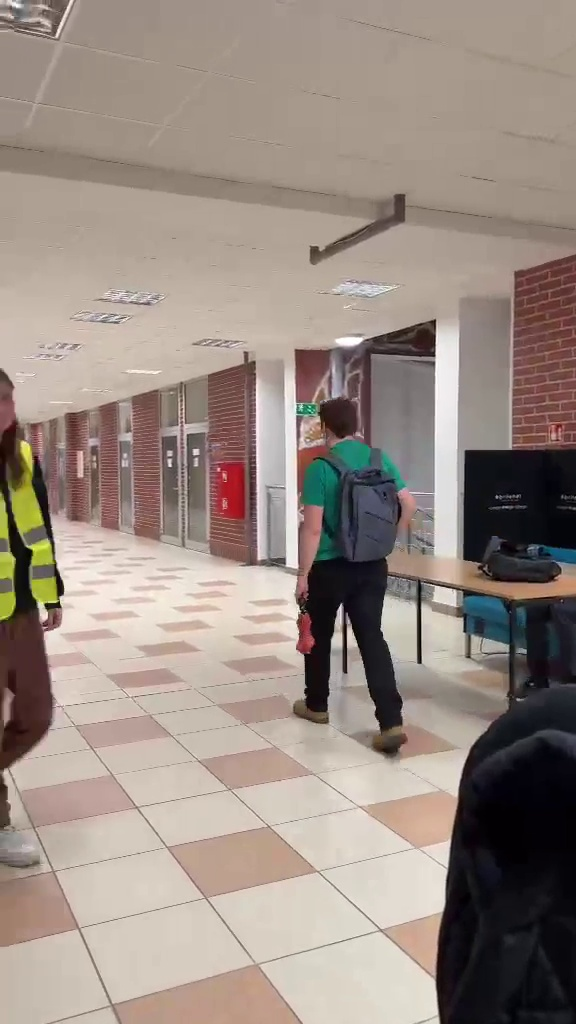no vest: (288, 391, 412, 755)
vest: (0, 358, 80, 891)
